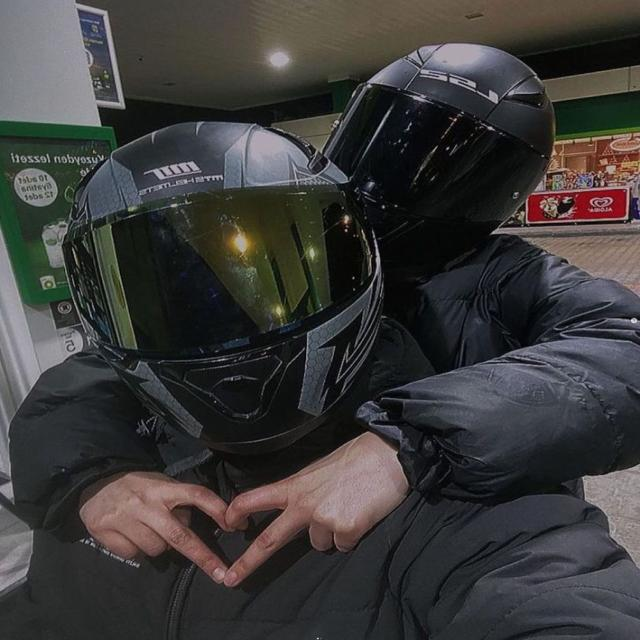helmet: (54, 112, 392, 470), (317, 36, 564, 280)
